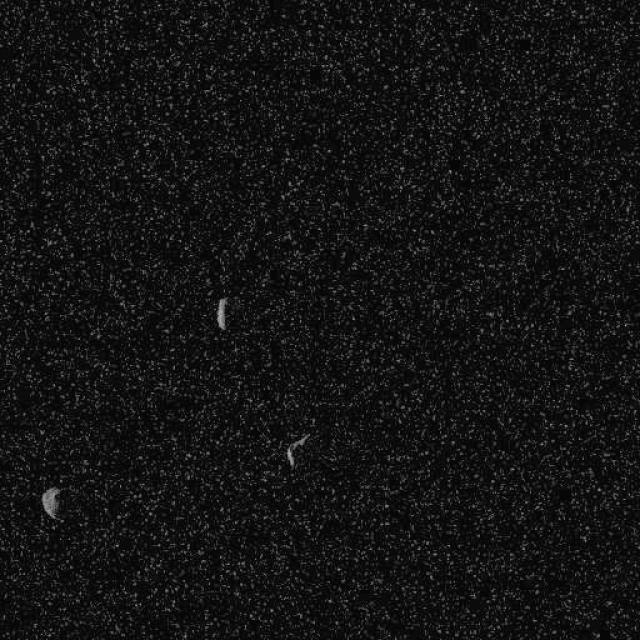D2: (284, 432, 310, 468), (40, 484, 64, 521), (215, 296, 227, 330)
